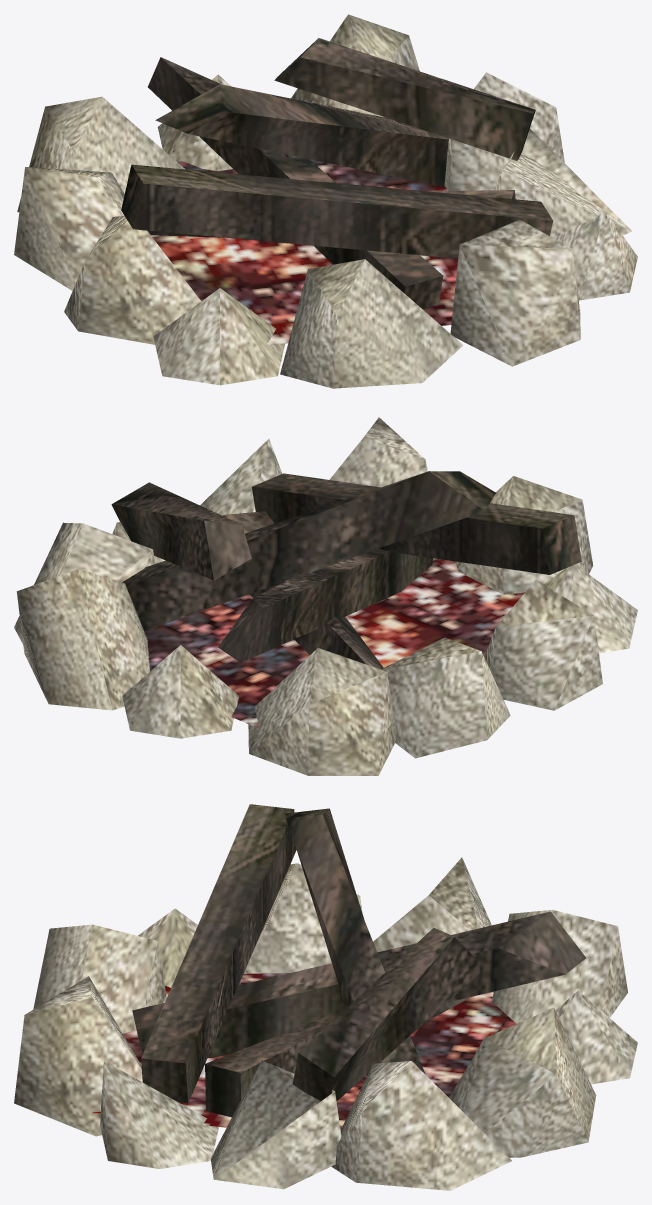
Rendered from building_camp_fire.glb.
3 views of the same model, one above another, from view 1: azimuth 30°, elevation 25°; view 2: azimuth 150°, elevation 25°; view 3: azimuth 270°, elevation 25° (orthographic). The views are drawn at different scales.
Parts seen in each view (by area): view 1: building_camp_fire; view 2: building_camp_fire; view 3: building_camp_fire.
Boxes of the visible parts, x1=… form: building_camp_fire: x1=14, y1=14, x2=637, y2=388; building_camp_fire: x1=14, y1=417, x2=637, y2=775; building_camp_fire: x1=14, y1=804, x2=637, y2=1190.
Size of the model in its own units: 2.58 by 0.9756 by 2.68.
3 materials, 3 textured.
